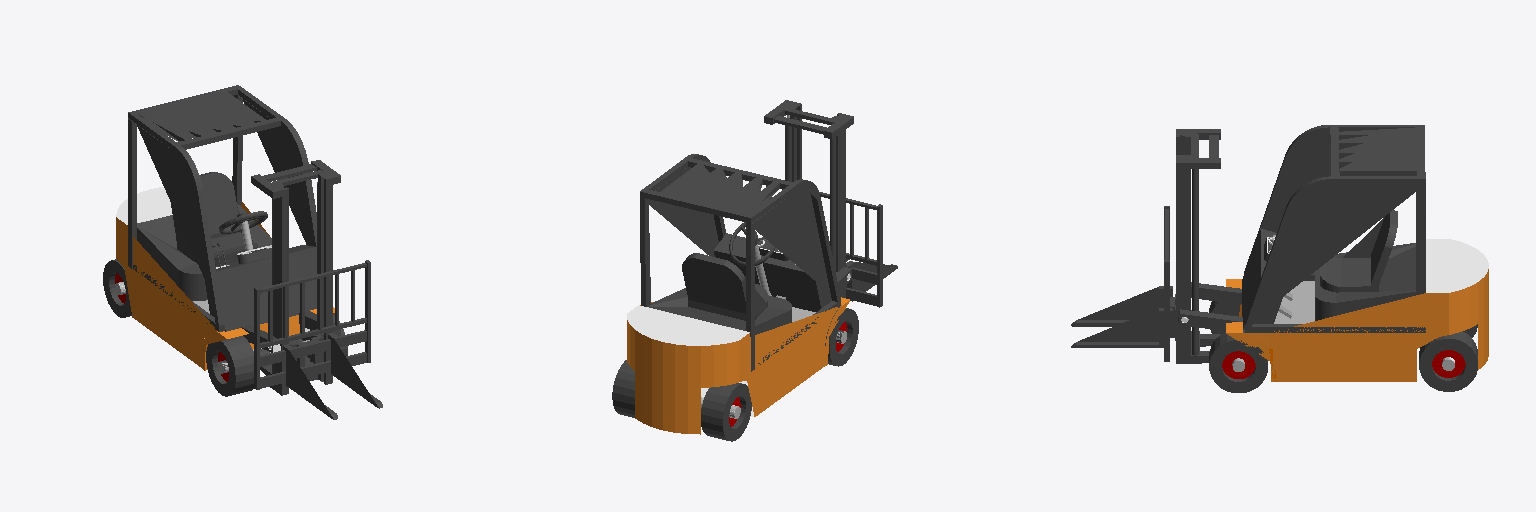
Rendered from 0311-Forklift.obj.
The picture shows the model from 3 angles: view 1: azimuth 30°, elevation 25°; view 2: azimuth 150°, elevation 25°; view 3: azimuth 270°, elevation 25°; orthographic projection.
Visible parts, largest first — view 1: 0311-Forklift.001; view 2: 0311-Forklift.001; view 3: 0311-Forklift.001.
Boxes of the visible parts, <box> form: 0311-Forklift.001: <box>103,85,382,419</box>; 0311-Forklift.001: <box>612,100,897,441</box>; 0311-Forklift.001: <box>1071,125,1488,392</box>.
Size of the model in its own units: 1.22 by 2.24 by 3.87.